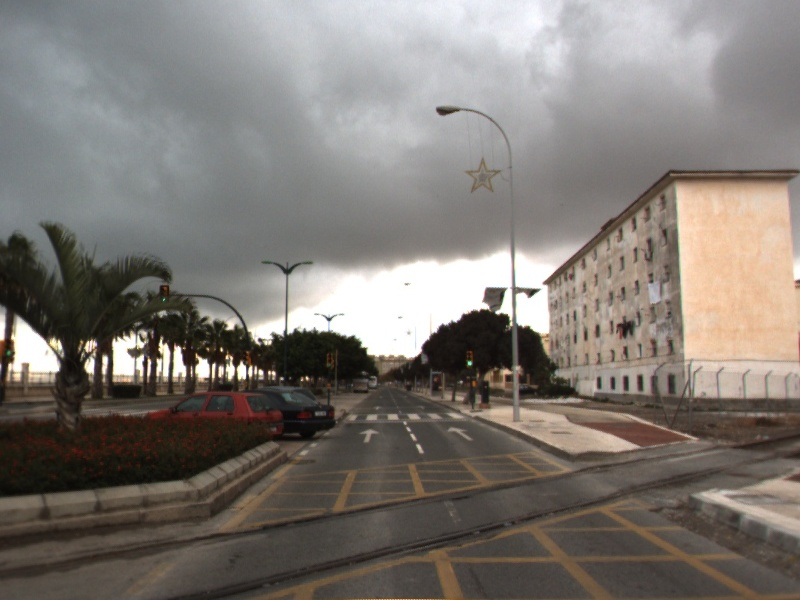STRAIGHT: (445, 424, 475, 443), (357, 426, 382, 445)
